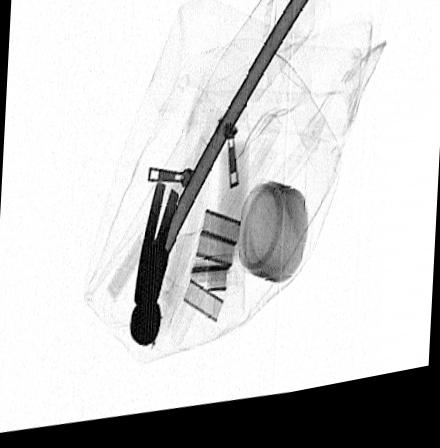Hammer: (129, 0, 315, 352)
